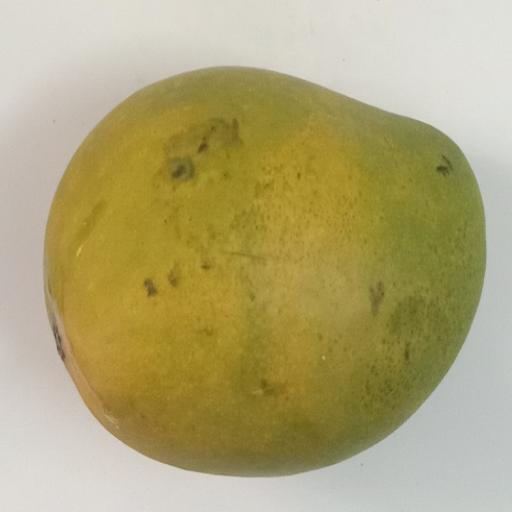mango-ripe: (27, 54, 494, 492)
